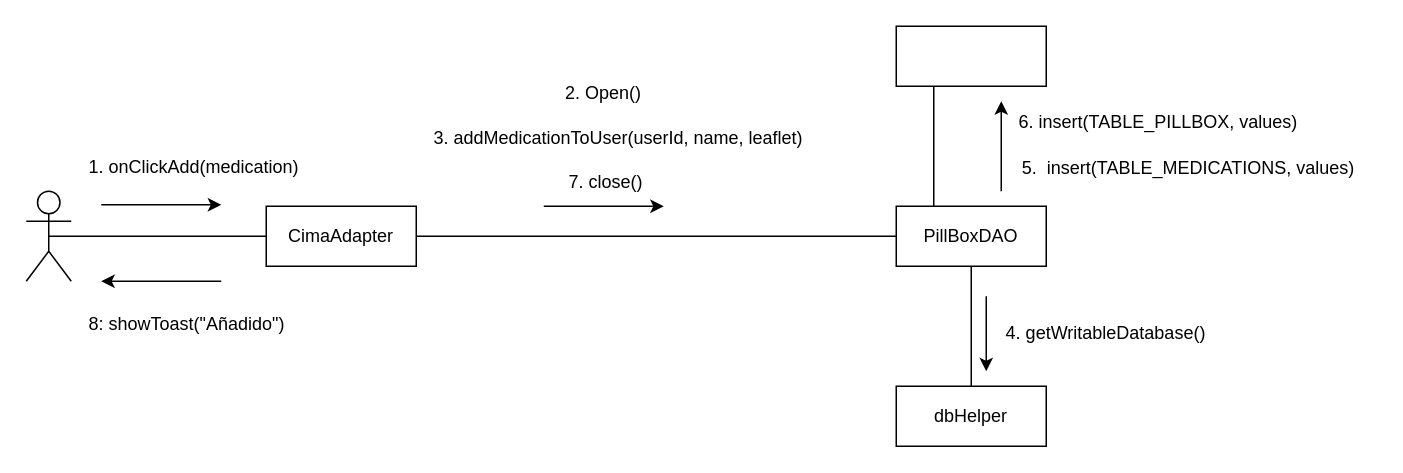
This 1403x473 diagram has some shape labels left out. The centre of each missing label's shape, as x and y in pixels:
"Actor" goes at [48,235].
"SQLiteDatabase" goes at [970,55].
